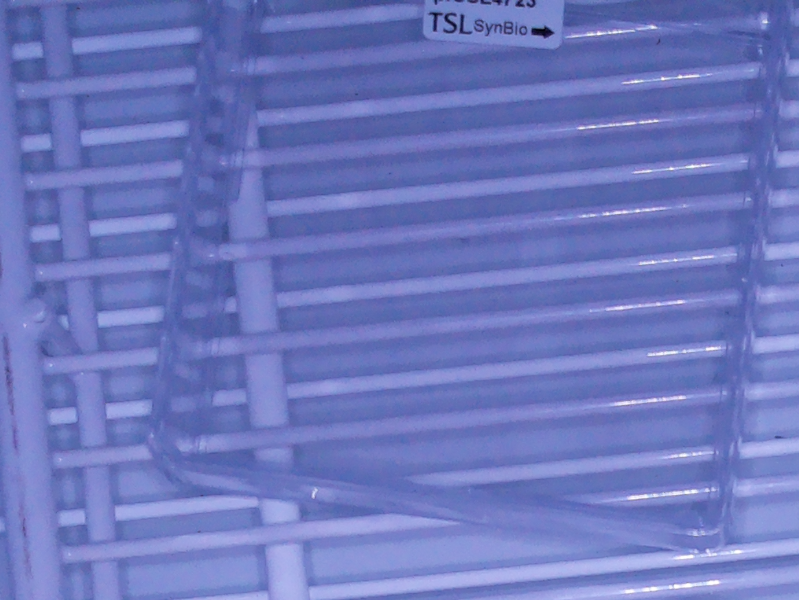plate: (145, 1, 792, 558)
